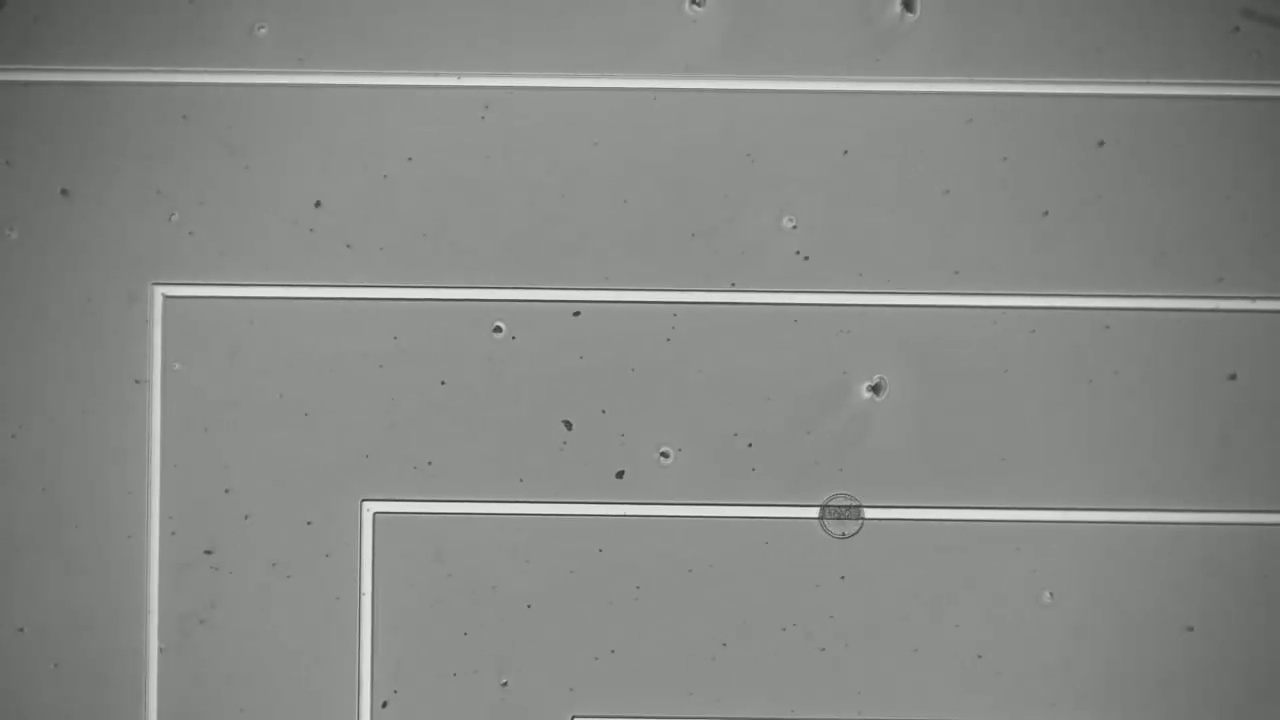gray_line: (802, 499, 882, 528)
